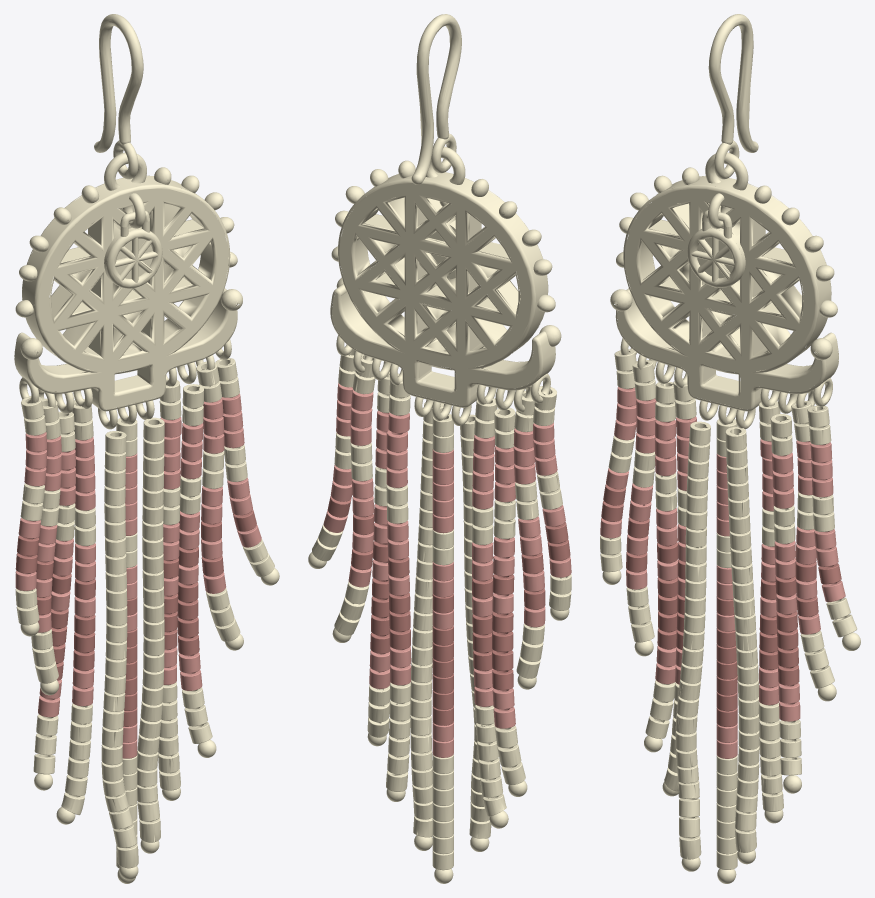
Rendered from hitit-revize-earrings_compressed.glb.
The picture shows the model from 3 angles, left to right: view 1: azimuth 30°, elevation 25°; view 2: azimuth 150°, elevation 25°; view 3: azimuth 330°, elevation 25°; orthographic projection.
Parts seen in each view (by area): view 1: Mesh_0.008; view 2: Mesh_0.008; view 3: Mesh_0.008.
Part boxes in pixels (box(x1,y1,x2,y2)): Mesh_0.008: box(14, 14, 279, 883); Mesh_0.008: box(308, 14, 571, 883); Mesh_0.008: box(600, 14, 860, 883).
Size of the model in its own units: 22.81 by 72.3 by 8.11.
